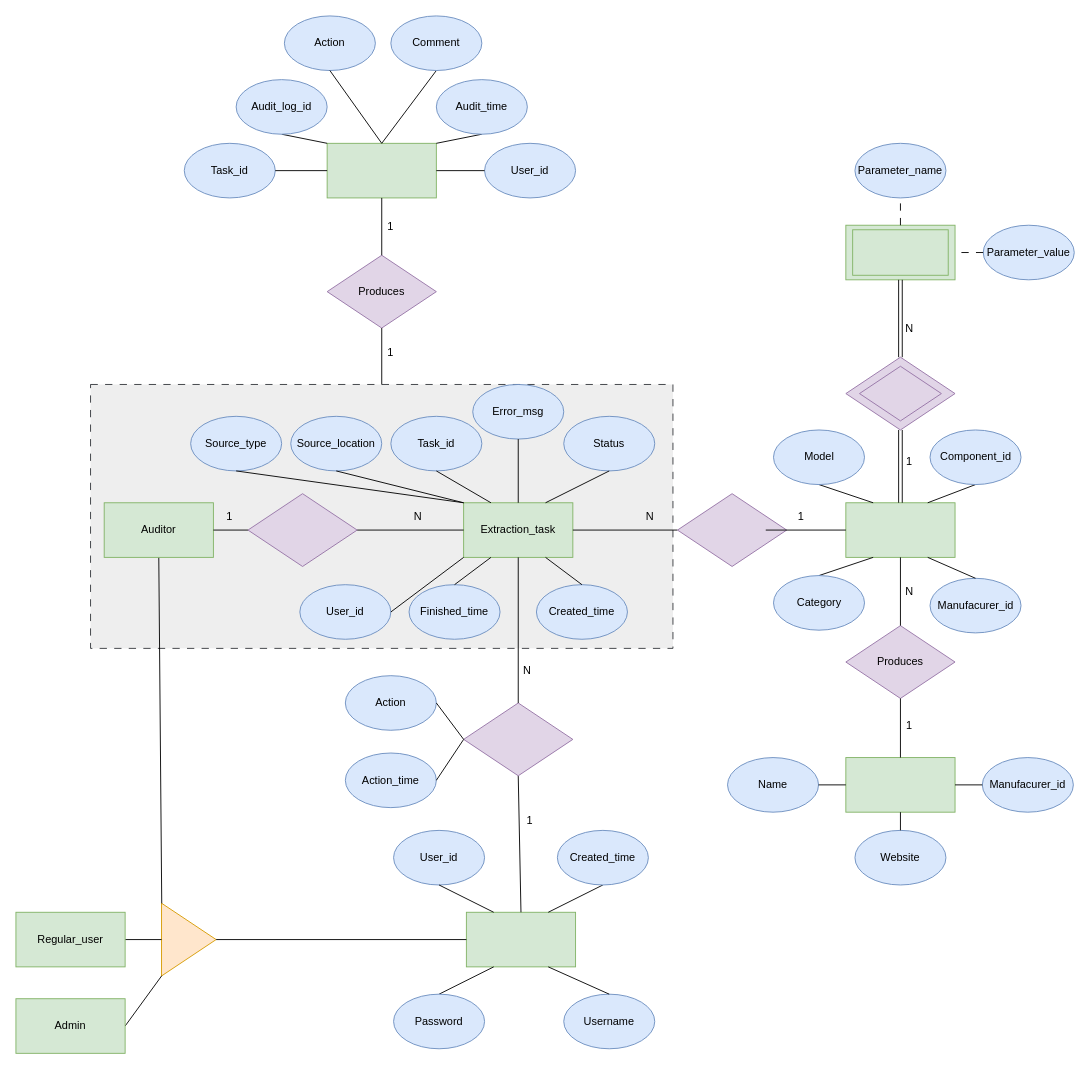
The diagram is 1090 pixels wide and 1069 high, and some of its shapes have lost their labels. Here are the shapes that lost their labels. From the top down, the centre of each, then its label:
the point at 381,170: Audit_log
the point at 900,252: Parameters
the point at 900,393: Own
the point at 302,529: Audits
the point at 732,529: Extracts
the point at 900,529: Component
the point at 518,739: Operates
the point at 900,784: Manufacturer
the point at 188,939: ISA
the point at 520,939: User
